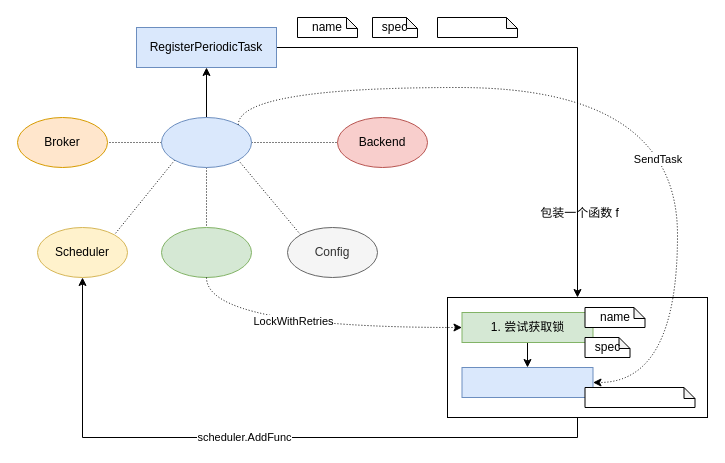
Image size: 725x463. Some labels were removed from this diagram. The box of each missing label's shape, as (x1, y1, x2, y2) in pixels:
2. 发送任务: (461, 366, 593, 398)
Lock: (160, 226, 252, 278)
Server: (160, 116, 252, 168)
signature: (436, 16, 518, 38)
signature(copy): (584, 386, 695, 408)
